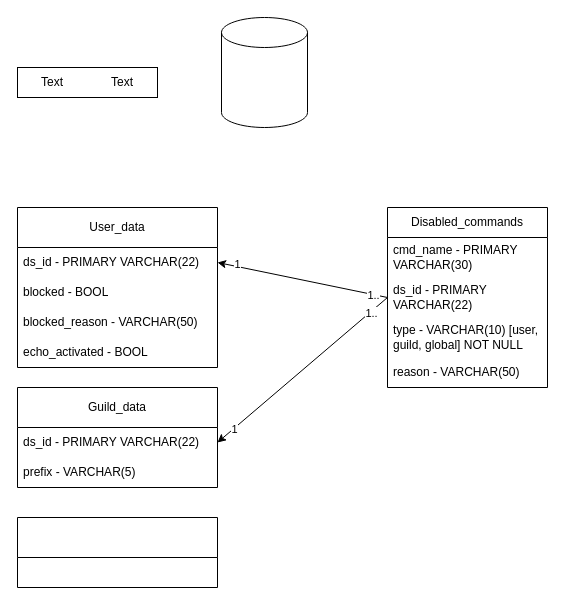
Some shapes in this 565 by 605 pixel diagram are drawn without their labels. Each missing label, with the centre of its shape:
Bot_settings: the point at 117,552
NochtTests: the point at 264,72
